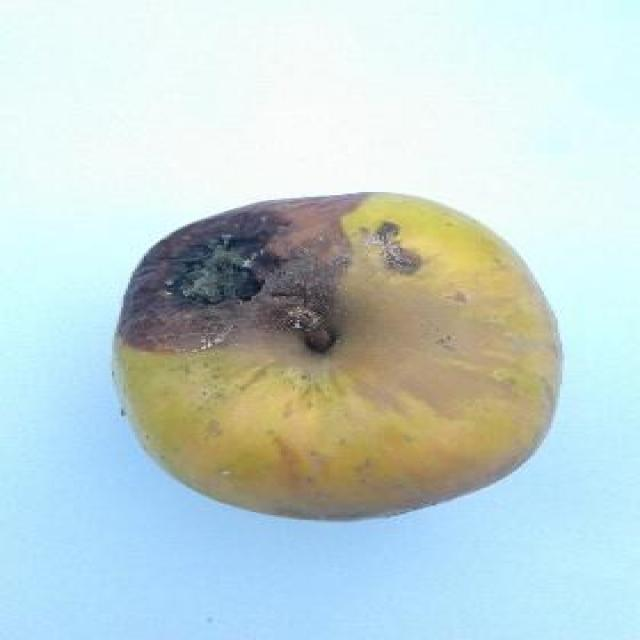Rotten: (107, 178, 566, 521)
